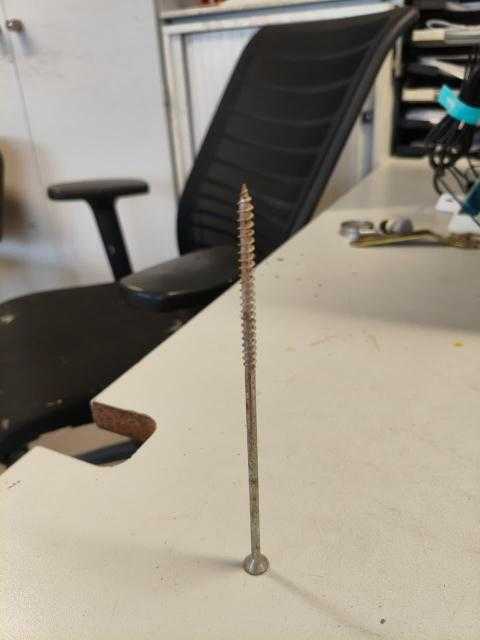Metal: (230, 182, 273, 583)
